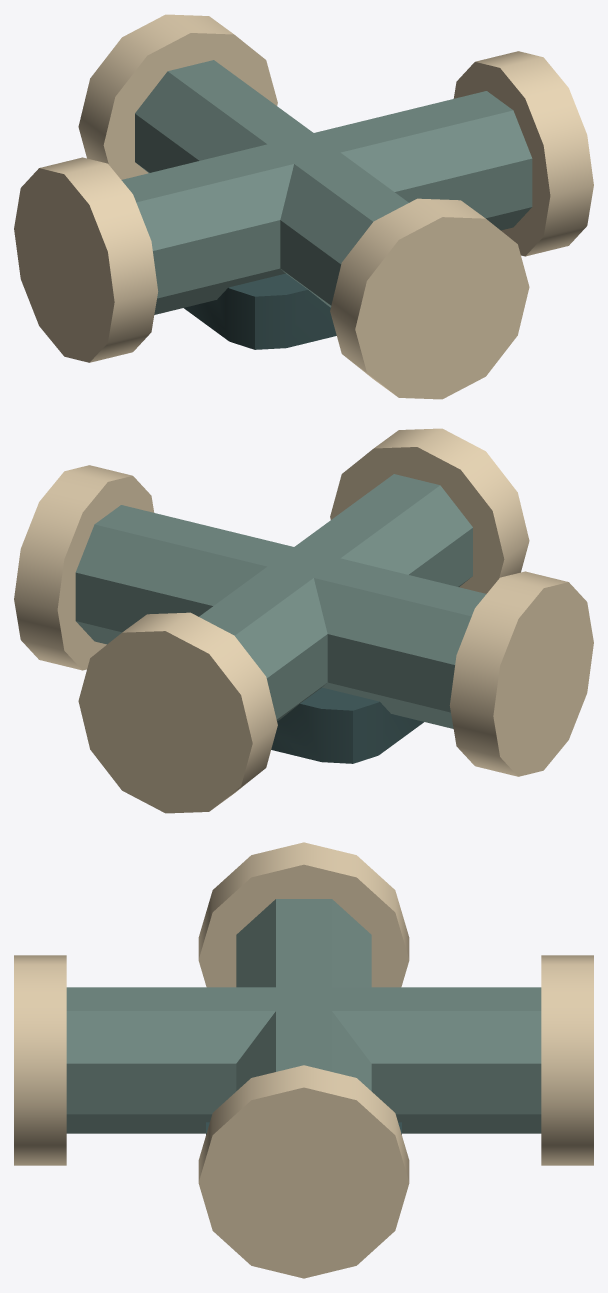
Rendered from pipe-kit-cross.glb.
The picture shows the model from 3 angles, top to bottom: view 1: azimuth 30°, elevation 25°; view 2: azimuth 150°, elevation 25°; view 3: azimuth 270°, elevation 25°; orthographic projection. The views are drawn at different scales.
Parts seen in each view (by area): view 1: pipe-kit-cross; view 2: pipe-kit-cross; view 3: pipe-kit-cross.
Part boxes in pixels (box(x1,y1,x2,y2)): pipe-kit-cross: box(14, 14, 593, 399); pipe-kit-cross: box(14, 428, 593, 813); pipe-kit-cross: box(14, 842, 593, 1278).
Bounding box in the file's own units: 1.98 × 0.72 × 1.98.
1 material, 1 textured.
